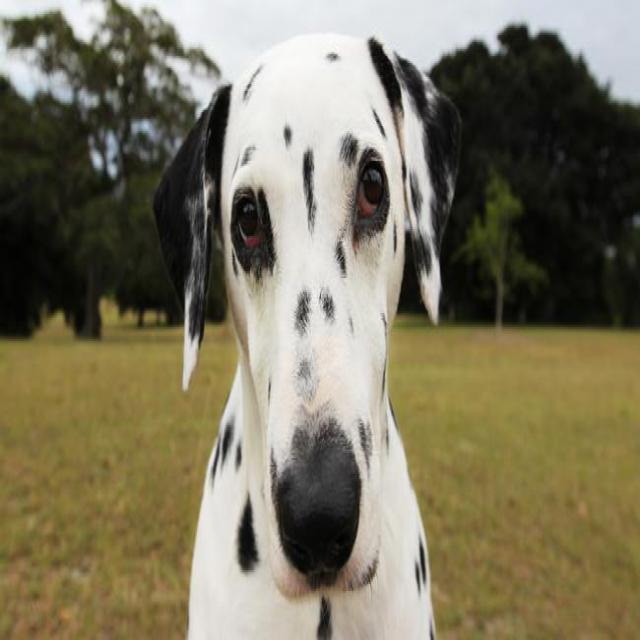eye: (352, 152, 388, 226), (234, 190, 266, 257)
